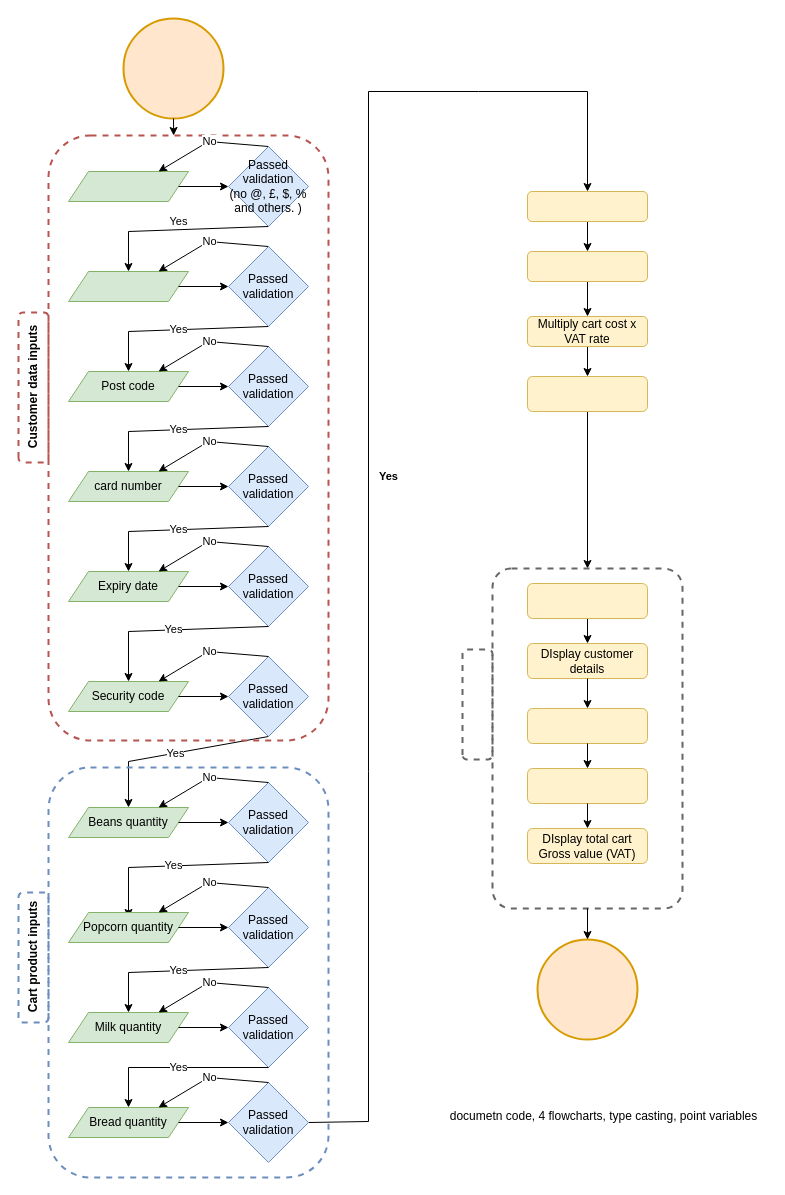
Image size: 785x1195. Some labels were removed from this diagram. The shapes that lost their labels are listed below. From the top down, each one's centre as x and y in pixels, then its label:
At (x=173, y=68): "START".
At (x=128, y=186): "Name".
At (x=587, y=206): "Calculate total price of each item".
At (x=128, y=286): "Address".
At (x=587, y=266): "Add total prices of the items to get cart cost".
At (x=587, y=394): "Add VAT cost to the cart NET cost".
At (x=587, y=600): "DIsplay date in DD/MM/YY format".
At (x=477, y=704): "Receipt format".
At (x=587, y=726): "List each item total cost".
At (x=587, y=786): "DIsplay total cart NET value".
At (x=587, y=989): "END".
